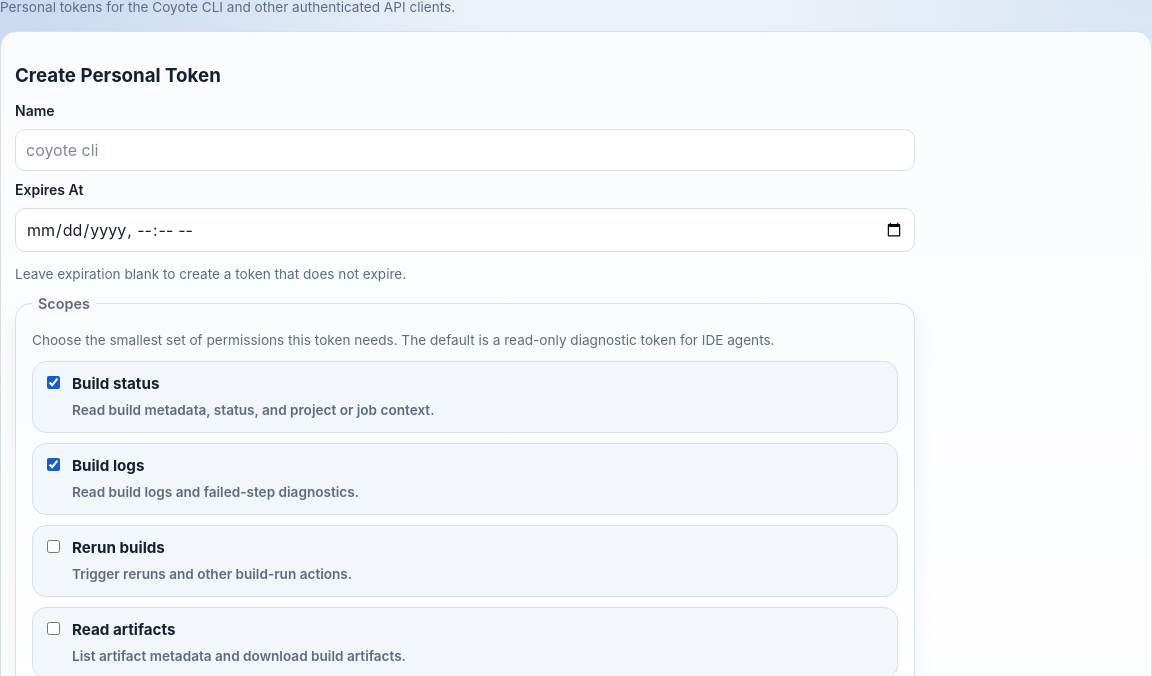
Test: APITokensPage › shows create validation errors from the API
In the field labelled "Name": (465, 150) [15,130,915,172], type "bad token"
(page scrolled)
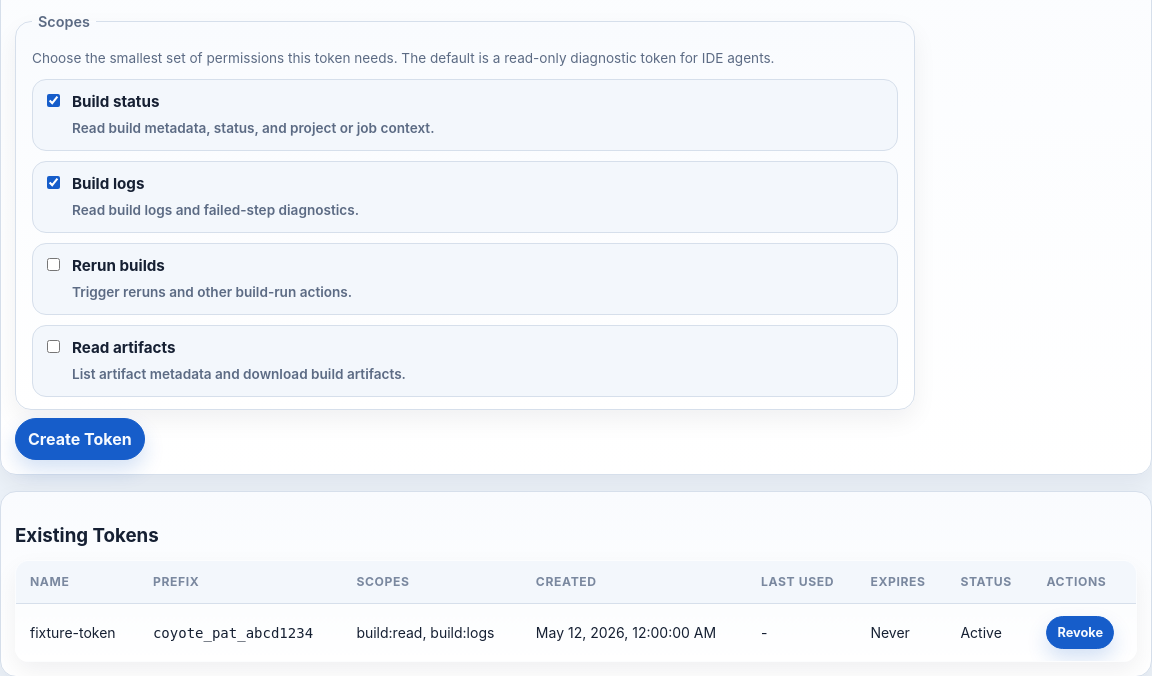
Click the button "Create Token": (80, 439) [15,418,145,460]
(page scrolled)
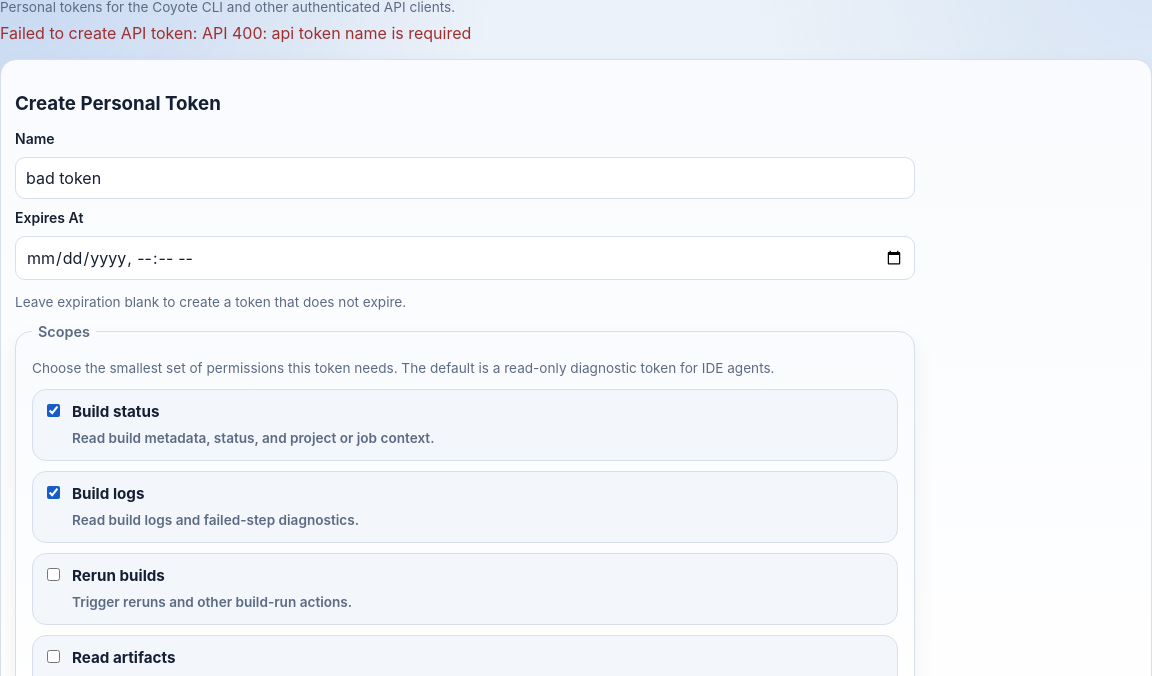
Check: the text "Failed to create API token: API 400: api token name is required" is shown, box [0,23,471,43]
